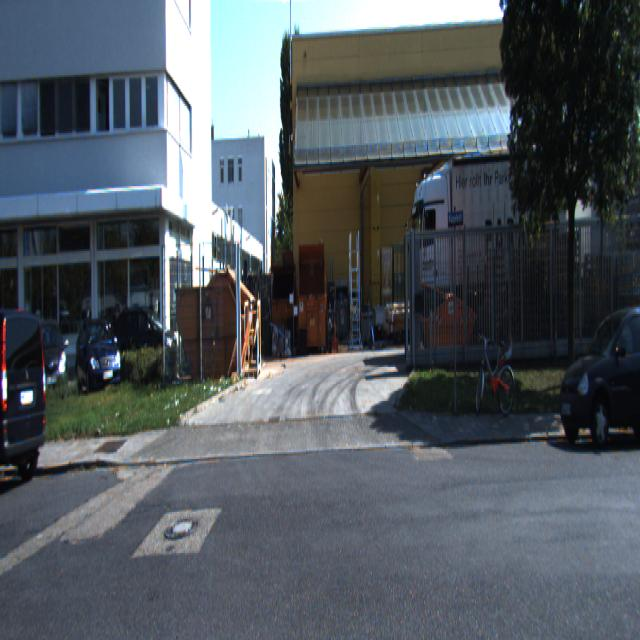Car: (556, 307, 640, 450), (76, 315, 121, 405)
DontCare: (405, 135, 639, 347), (120, 295, 177, 386), (45, 315, 78, 400)
Van: (0, 306, 49, 504)
